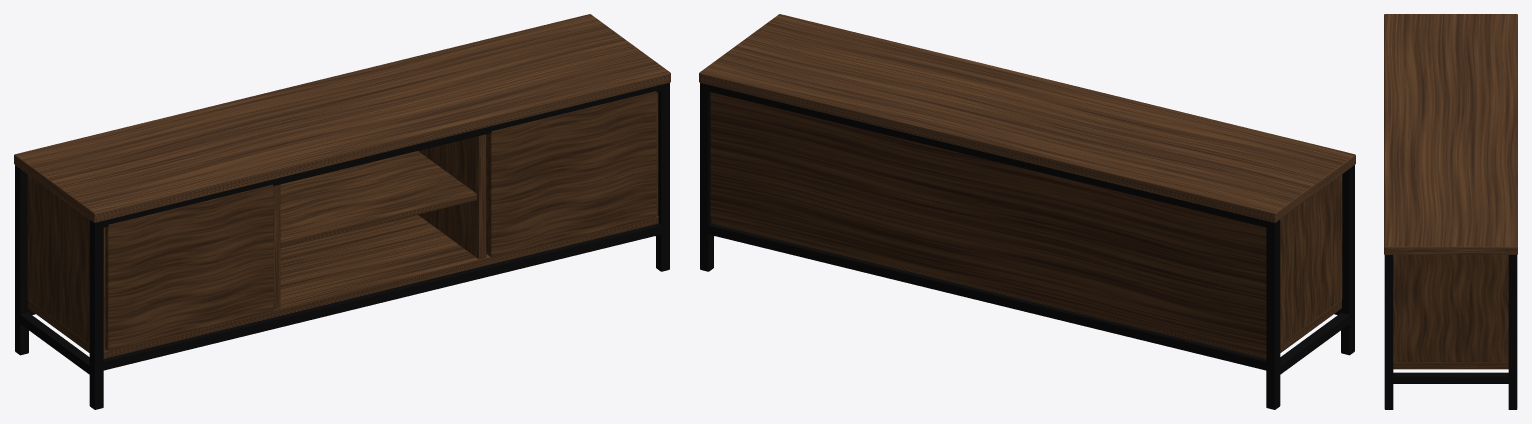
The model's file is industrial_rack_tv.glb.
3 views of the same model, side by side, from view 1: azimuth 30°, elevation 25°; view 2: azimuth 150°, elevation 25°; view 3: azimuth 270°, elevation 25° (orthographic). The views are drawn at different scales.
Parts seen in each view (by area): view 1: rack_tv; view 2: rack_tv; view 3: rack_tv.
Part boxes in pixels (x1,y1,x2,y2): rack_tv: [14, 14, 670, 409]; rack_tv: [699, 14, 1355, 409]; rack_tv: [1384, 14, 1517, 409].
Size of the model in its own units: 1.65 by 0.54 by 0.4.
4 materials, 4 textured.
